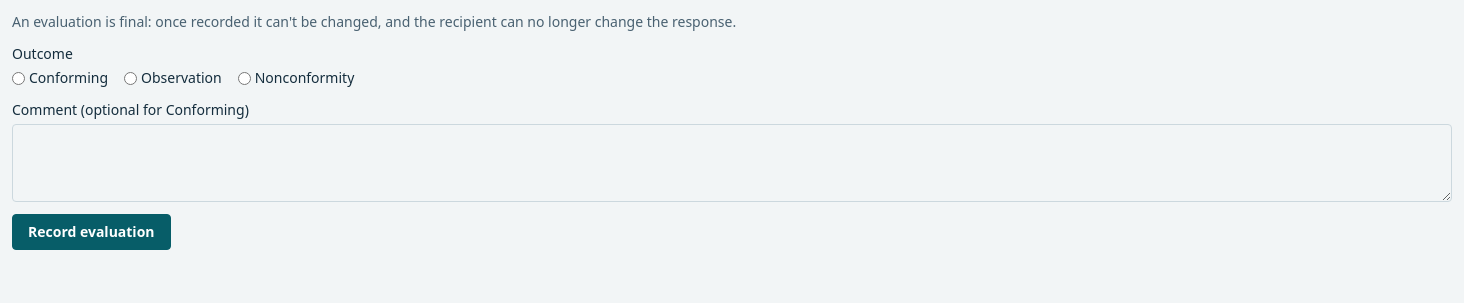
CheckUpEvaluationForm (#156) › sends nothing without an outcome, or without a comment for an Observation or a Nonconformity
The width and height of the screenshot is (1464, 303).
Click the button "Record evaluation" at (91, 232), box [12,214,170,250]
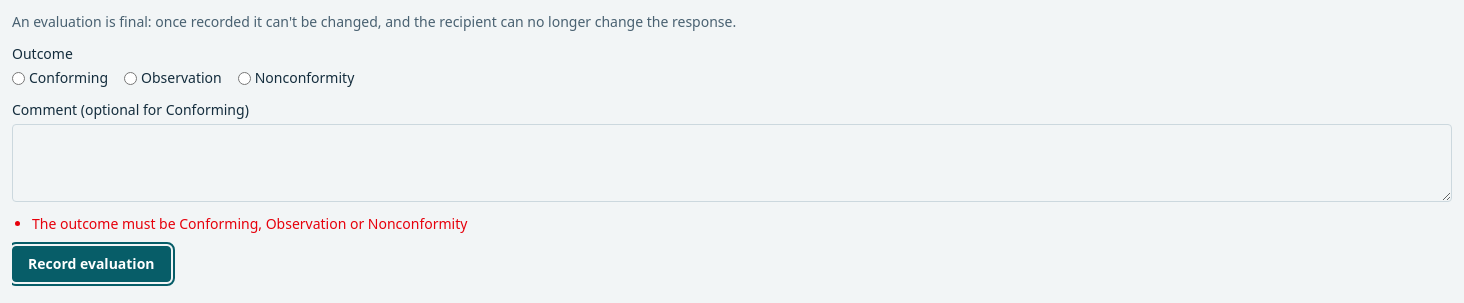
Result: the message shows "outcome" at [32,214,467,233]
Click the radio button labelled "Observation" at (130, 78), box [124,72,137,84]
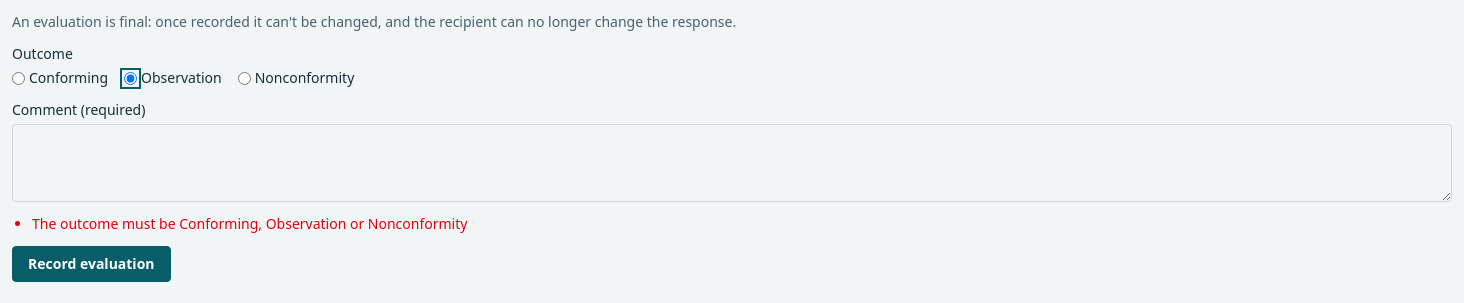
Click the button "Record evaluation" at (91, 264), box [12,246,170,282]
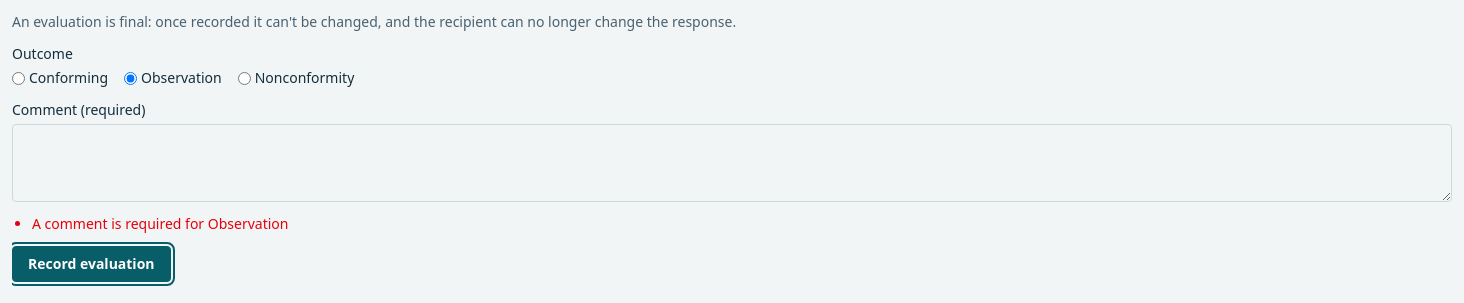
Result: the message shows "comment is required for Observation" at [32,214,288,233]
